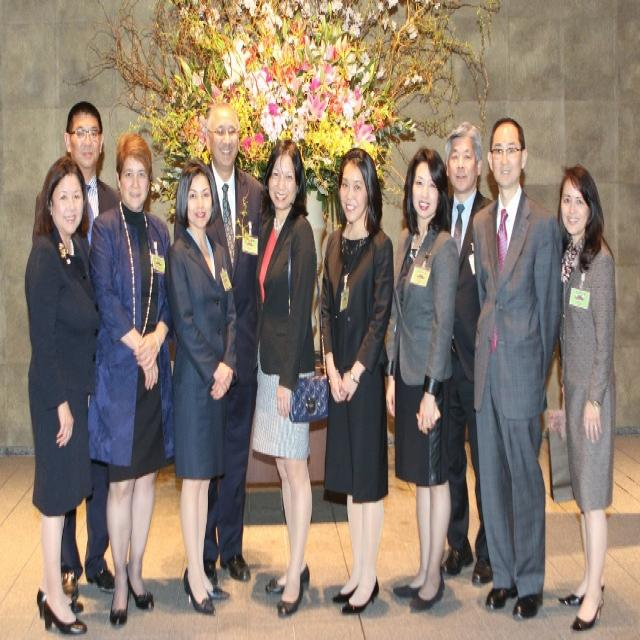body: (467, 114, 566, 626), (87, 128, 177, 632), (33, 98, 120, 602), (243, 132, 332, 620), (316, 145, 398, 619), (22, 152, 100, 639), (384, 143, 461, 612), (200, 100, 271, 592), (163, 157, 237, 619), (554, 161, 618, 633), (439, 120, 495, 590)
